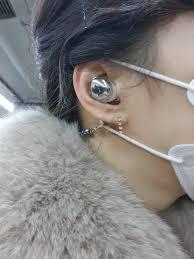earphone: (87, 74, 119, 105)
